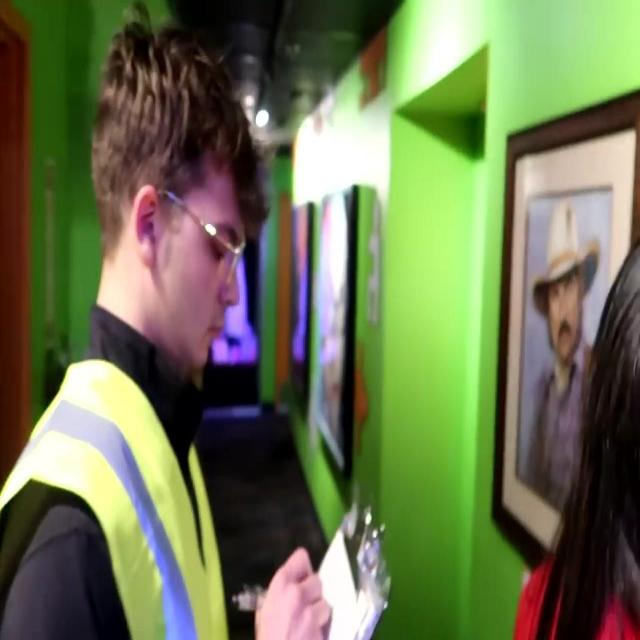con_chaleco: (1, 355, 231, 638)
